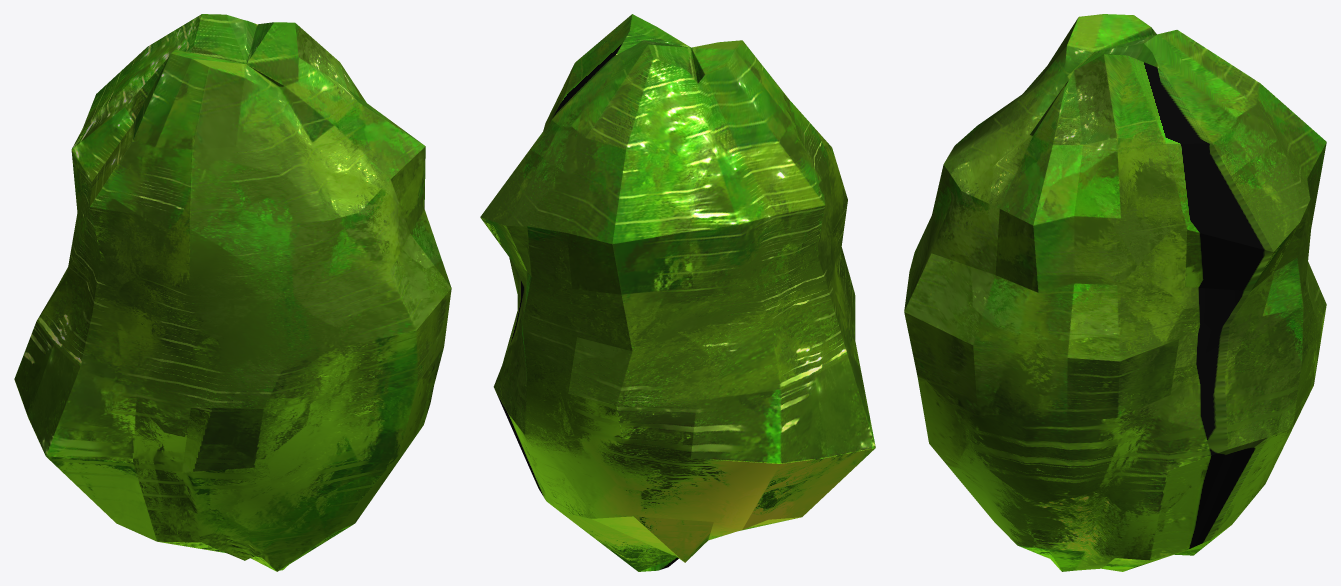
The picture shows the model from 3 angles, left to right: view 1: azimuth 30°, elevation 25°; view 2: azimuth 150°, elevation 25°; view 3: azimuth 270°, elevation 25°; orthographic projection. The views are drawn at different scales.
Visible parts, largest first — view 1: 522; view 2: 522; view 3: 522.
Boxes of the visible parts, x1,y1,x2,y2 form: 522: (14,14,451,571); 522: (480,14,875,571); 522: (904,14,1326,571).
Bounding box in the file's own units: 2.98 × 4.1 × 2.9.
Materials: 1 (1 with a texture image).
